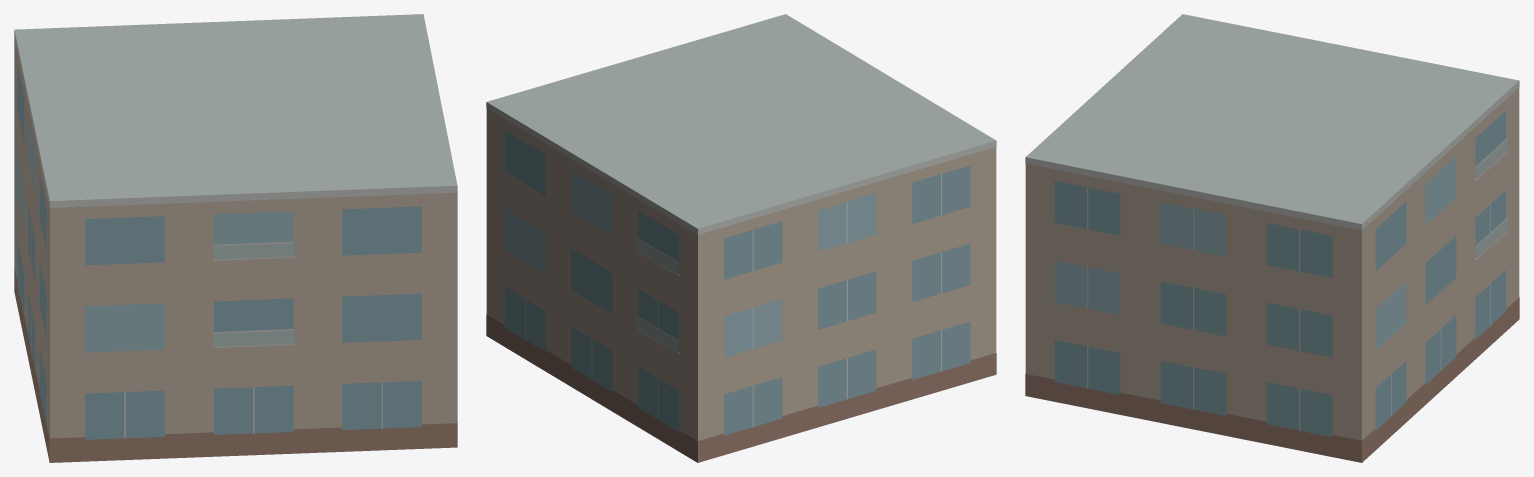
File: survey-upis-32553102.glb
3 renders of one model, left to right at view 1: azimuth 30°, elevation 25°; view 2: azimuth 150°, elevation 25°; view 3: azimuth 270°, elevation 25°, orthographic. The views are drawn at different scales.
Parts seen in each view (by area): view 1: survey-upis-32553102.tmp; view 2: survey-upis-32553102.tmp; view 3: survey-upis-32553102.tmp.
Boxes of the visible parts, <box> form: survey-upis-32553102.tmp: <box>14,14,457,462</box>; survey-upis-32553102.tmp: <box>486,14,996,462</box>; survey-upis-32553102.tmp: <box>1025,14,1519,462</box>.
Size of the model in its own units: 17.28 by 9.15 by 17.17.
